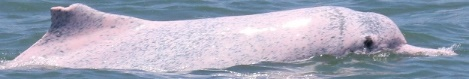fin: (7, 1, 456, 79)
